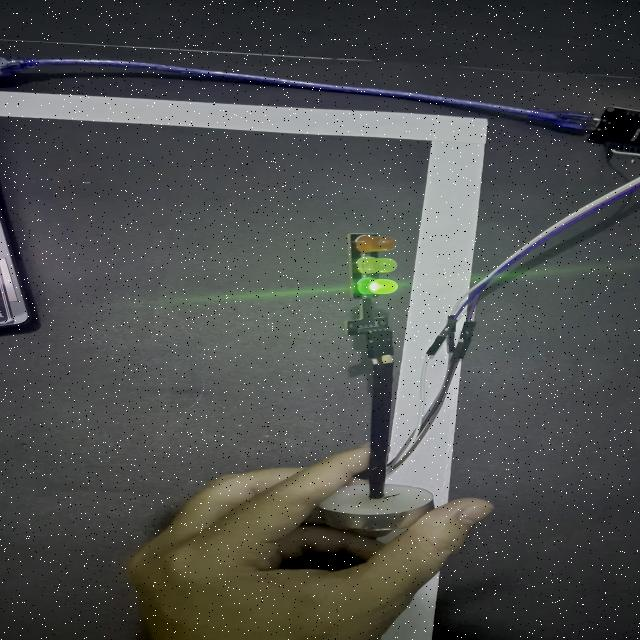Lampu Hijau: (344, 230, 402, 300)
